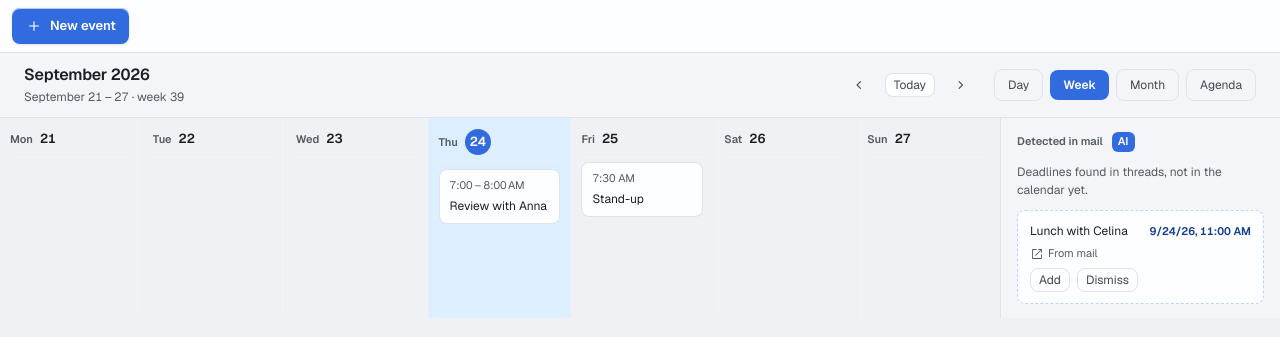
Test: CalendarSpace › picks an entry out on a modifier-held press and says how many are held
Click the option "7:00 – 8:00 AM Review with Anna".
click(500, 196)  # box [439,169,560,224]
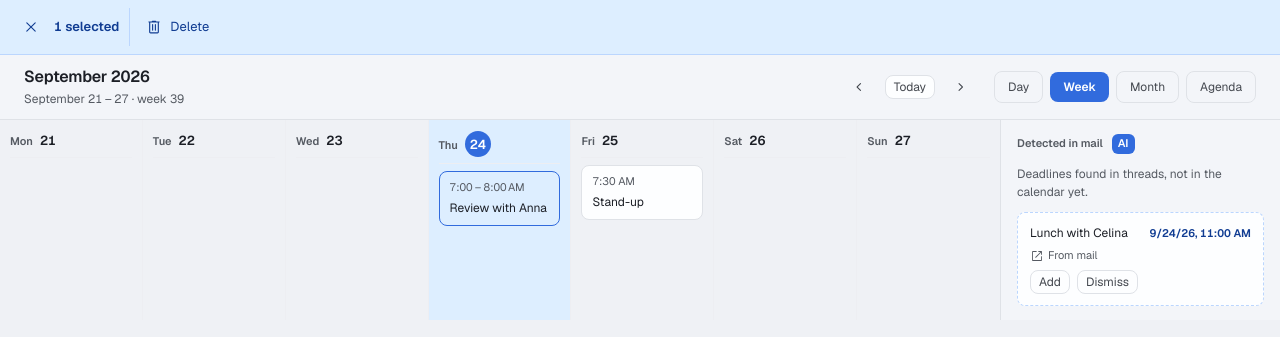
Now the element named "What to do with the selected events" is shown, box [0,0,1279,55]
Now the text "1 selected" is shown, box [52,17,119,37]
Now the button "New event" is gone
